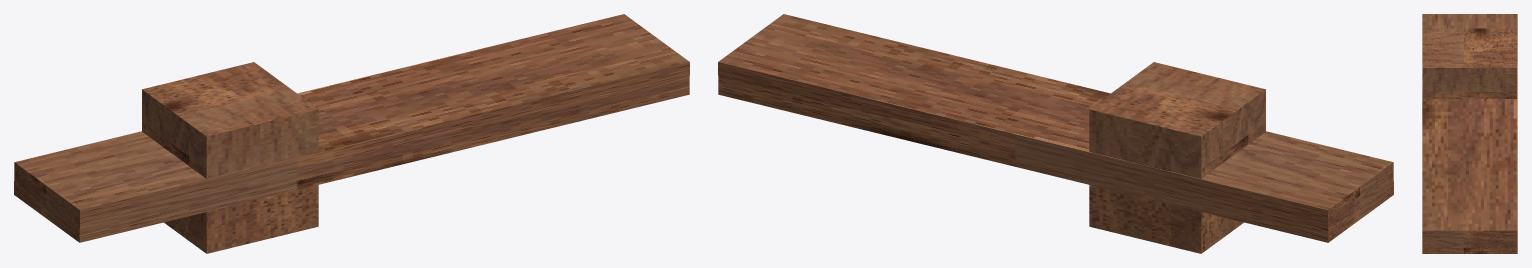
File: PSXCross.fbx
3 views of the same model, side by side, from view 1: azimuth 30°, elevation 25°; view 2: azimuth 150°, elevation 25°; view 3: azimuth 270°, elevation 25° (orthographic). The views are drawn at different scales.
Parts seen in each view (by area): view 1: Cube.003-1, Cube.003-0; view 2: Cube.003-1, Cube.003-0; view 3: Cube.003-1, Cube.003-0.
Boxes of the visible parts, x1=… form: Cube.003-1: x1=14, y1=14, x2=689, y2=242; Cube.003-0: x1=142, y1=62, x2=318, y2=253; Cube.003-1: x1=718, y1=14, x2=1393, y2=242; Cube.003-0: x1=1089, y1=62, x2=1265, y2=253; Cube.003-1: x1=1422, y1=14, x2=1517, y2=253; Cube.003-0: x1=1423, y1=28, x2=1516, y2=98.
Size of the model in its own units: 10.89 by 2 by 2.03.
Materials: 2 (2 with a texture image).
